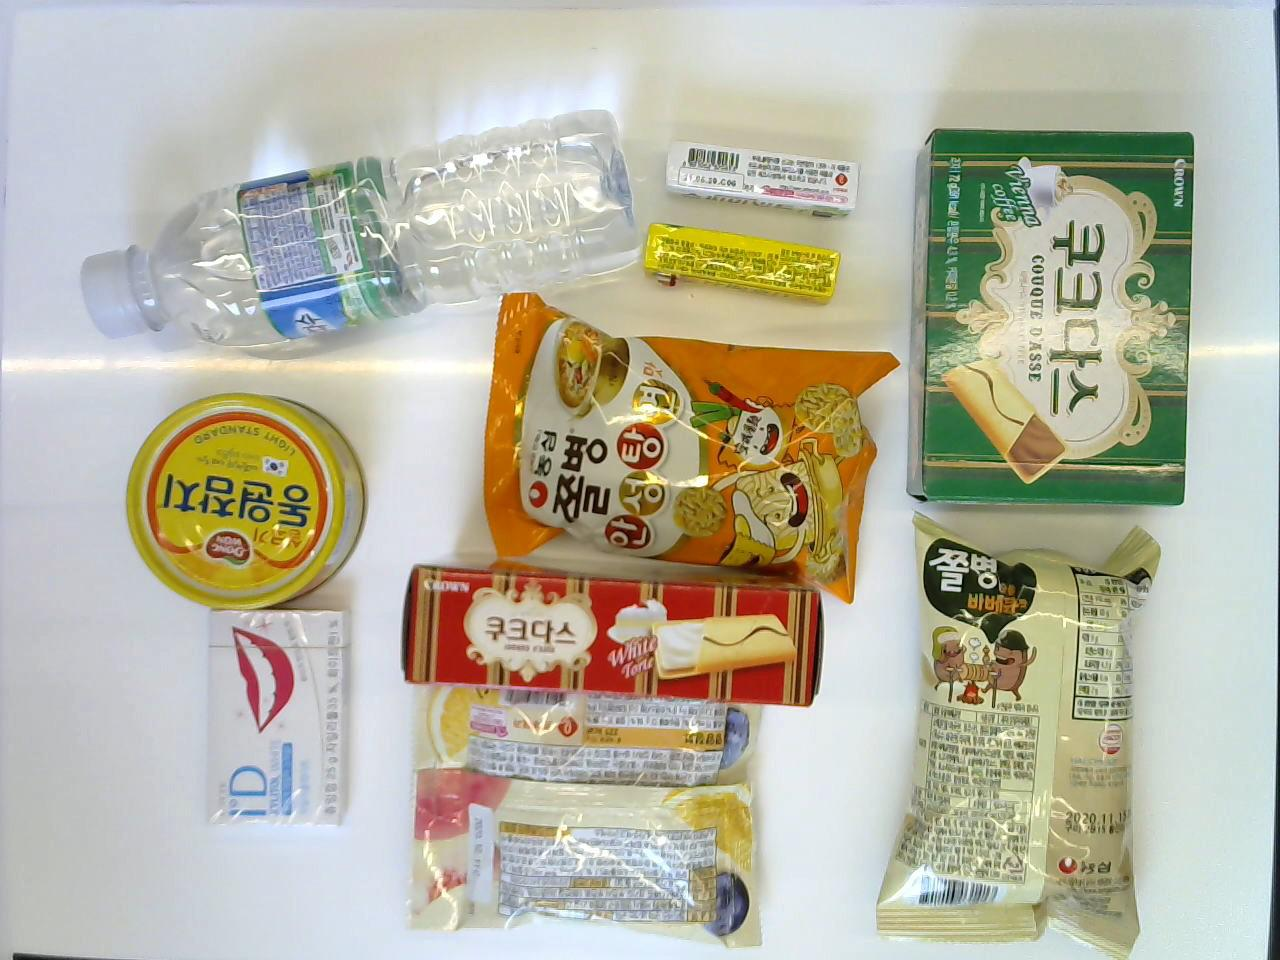ID_gum: (201, 605, 354, 827)
couque_coffee: (901, 129, 1195, 516)
couque_white: (397, 559, 822, 707)
gumi_gumi: (401, 682, 769, 947)
jjolbyung_noodle: (482, 288, 900, 606)
jjolbyung_ori: (872, 510, 1166, 954)
juicyfresh: (642, 219, 840, 305)
samdasu: (76, 110, 642, 353)
spearmint: (662, 139, 863, 220)
tuna: (123, 388, 367, 613)
